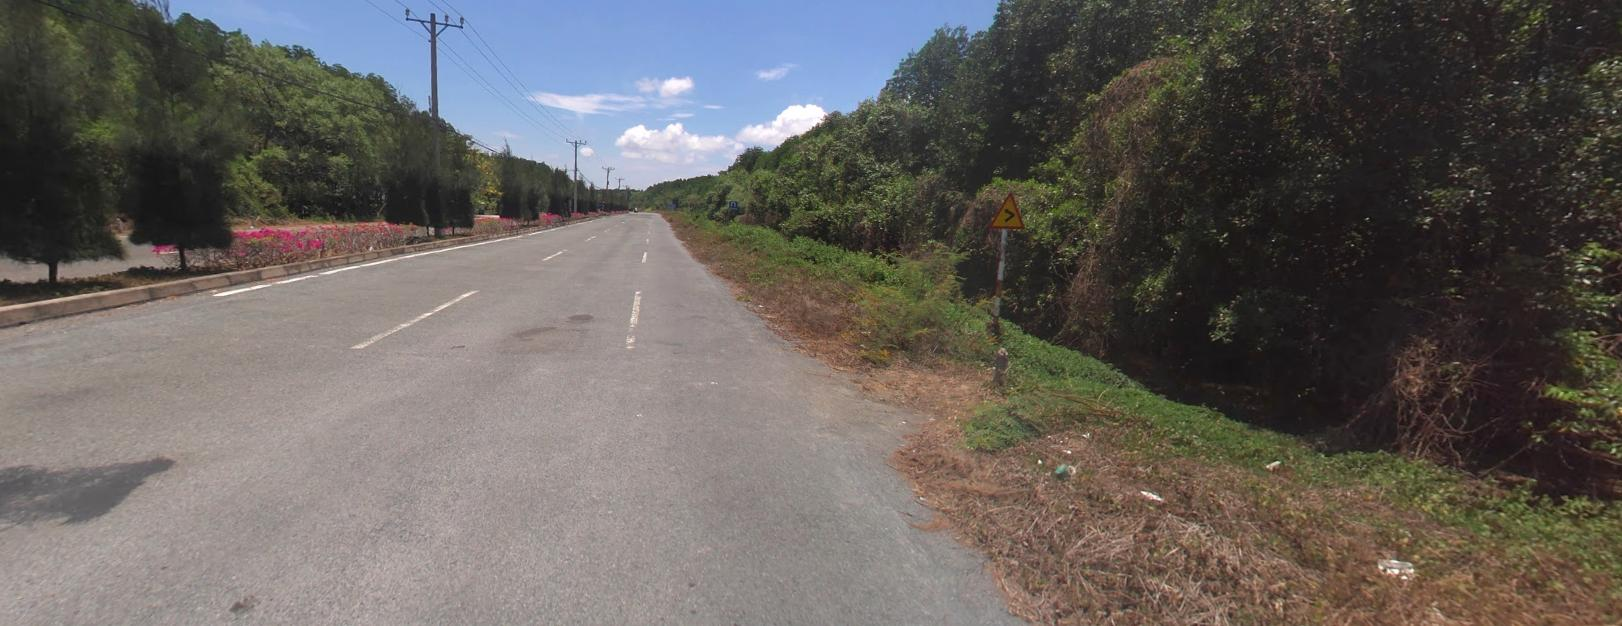Nguy hiem: (991, 190, 1024, 226)
